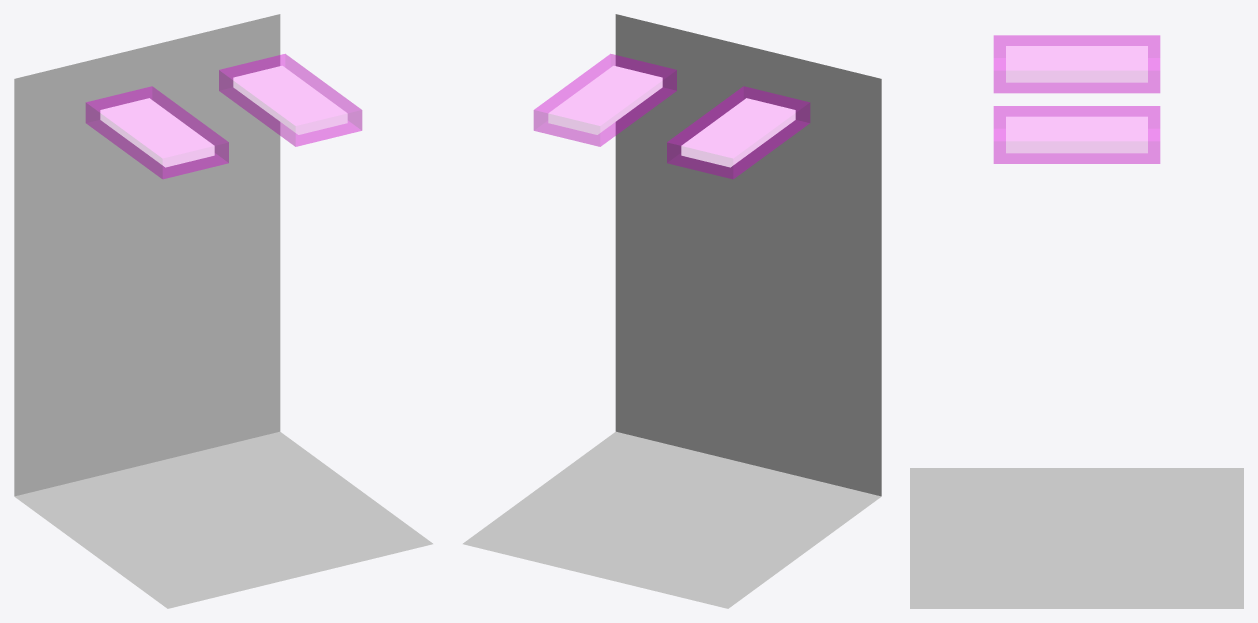
File: maze_pipe.glb
The picture shows the model from 3 angles, left to right: view 1: azimuth 30°, elevation 25°; view 2: azimuth 150°, elevation 25°; view 3: azimuth 270°, elevation 25°; orthographic projection. The views are drawn at different scales.
Visible parts, largest first — view 1: Plane.006, Plane.004, light.001; view 2: Plane.003, Plane.004, light.001; view 3: Plane.004, light.001.
Part boxes in pixels (left/top/right/bottom): Plane.006: left=14, top=14, right=280, bottom=496; Plane.004: left=14, top=431, right=432, bottom=608; light.001: left=86, top=54, right=361, bottom=178; Plane.003: left=615, top=14, right=881, bottom=496; Plane.004: left=463, top=431, right=881, bottom=608; light.001: left=534, top=54, right=809, bottom=178; Plane.004: left=910, top=468, right=1243, bottom=608; light.001: left=994, top=35, right=1159, bottom=163.
Bounding box in the file's own units: 4 × 6 × 4.
